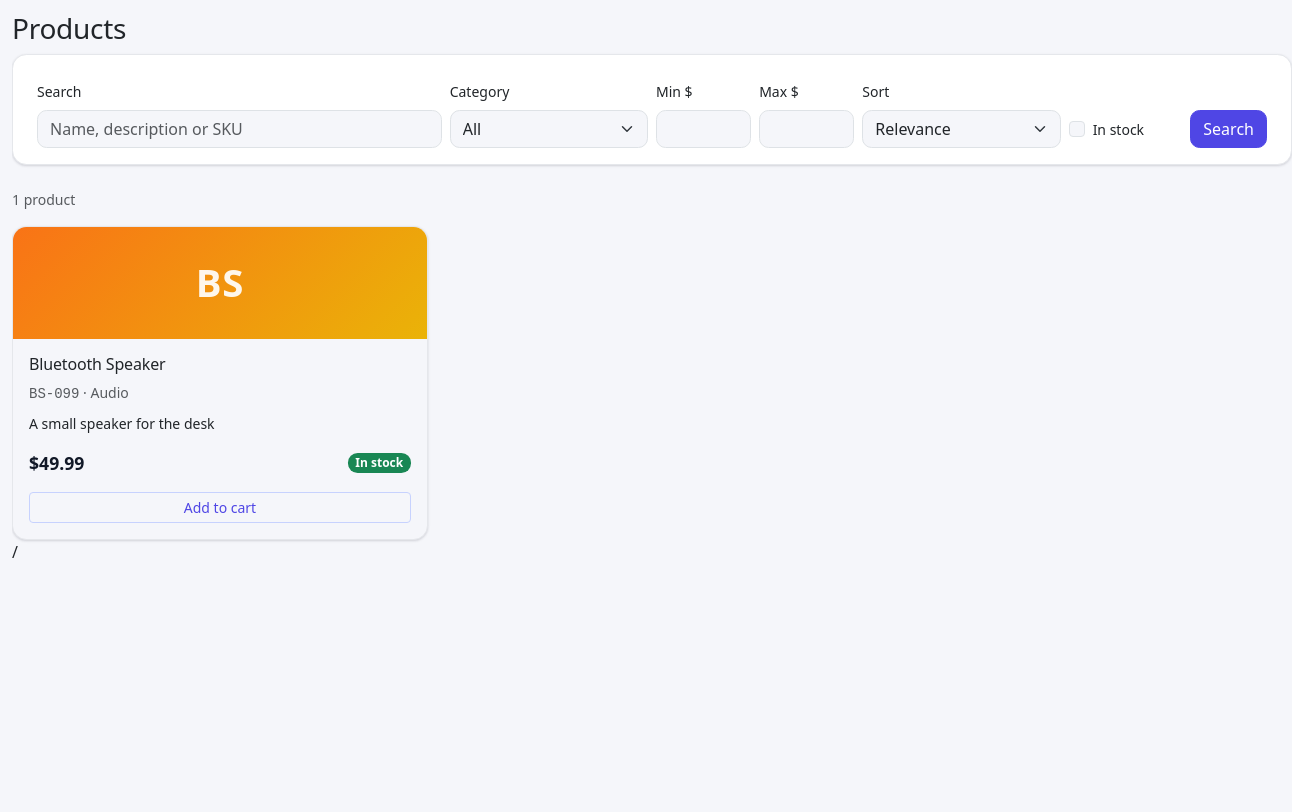
Test: ShopPage › searches on Enter and leaves the focus in the search box
Type "speaker" into the field labelled "Search" at {"x": 239, "y": 129}, box [37,110,442,148]
Then press Enter
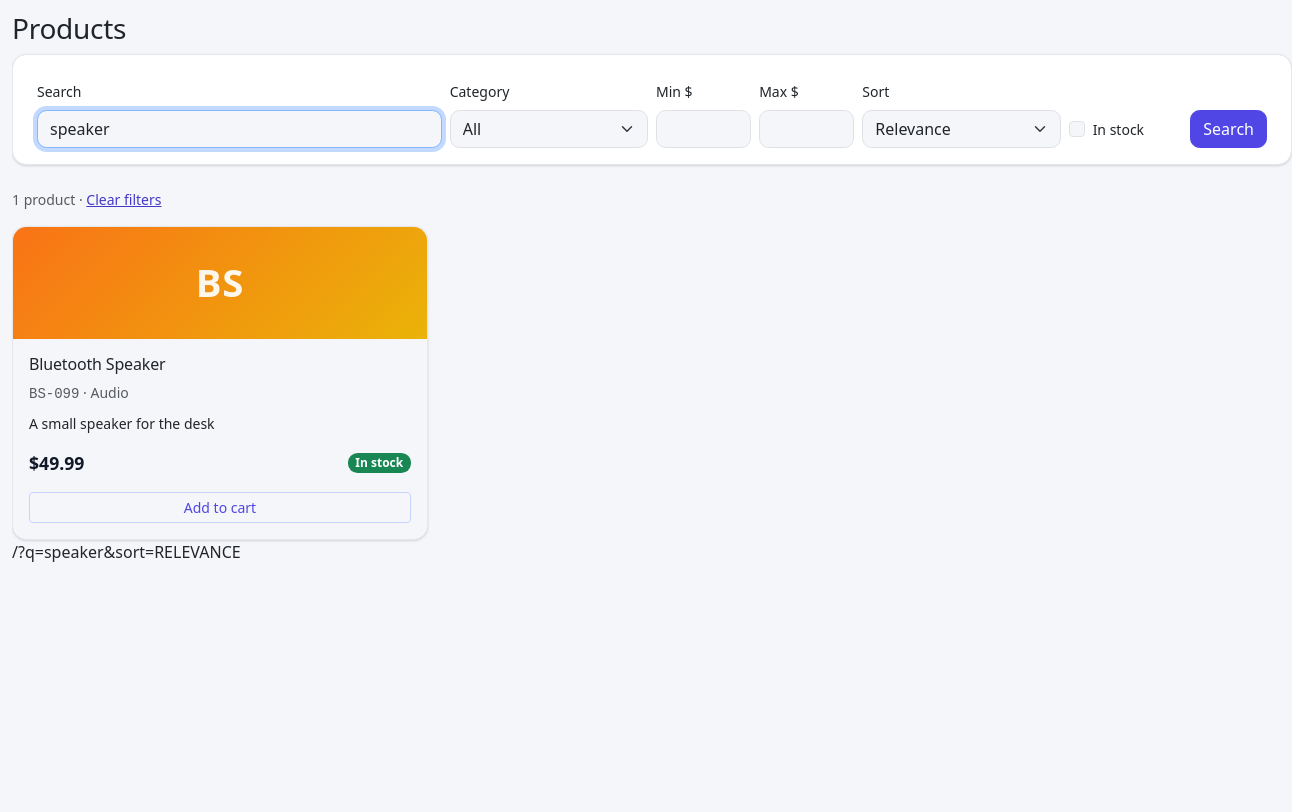
Result: the text with test id "location" reads "/?q=speaker&sort=RELEVANCE" at [18,541,241,563]
